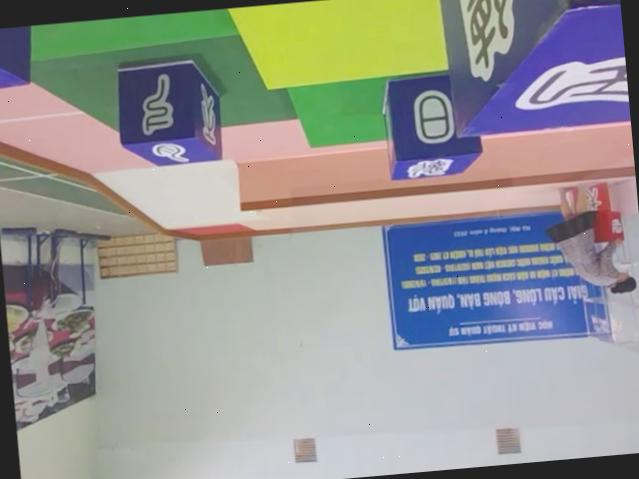R2 Fake Blue: (442, 0, 631, 149), (108, 52, 222, 166), (376, 65, 484, 180)
